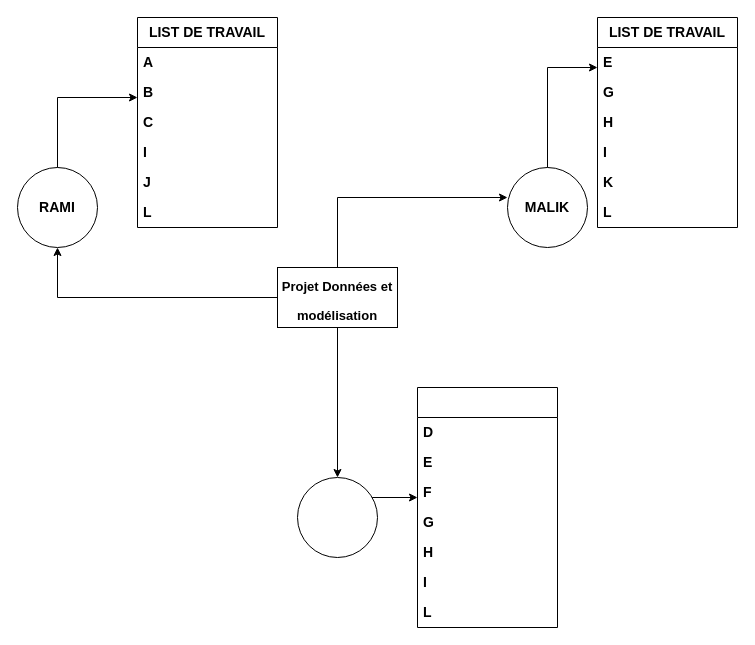
This 755x645 diagram has some shape labels left out. The box of each missing label's shape, as (x1, y1, x2, y2) in pixels:
LIST DE TRAVIAL: (416, 386, 558, 628)
NASSIM: (296, 476, 378, 558)
